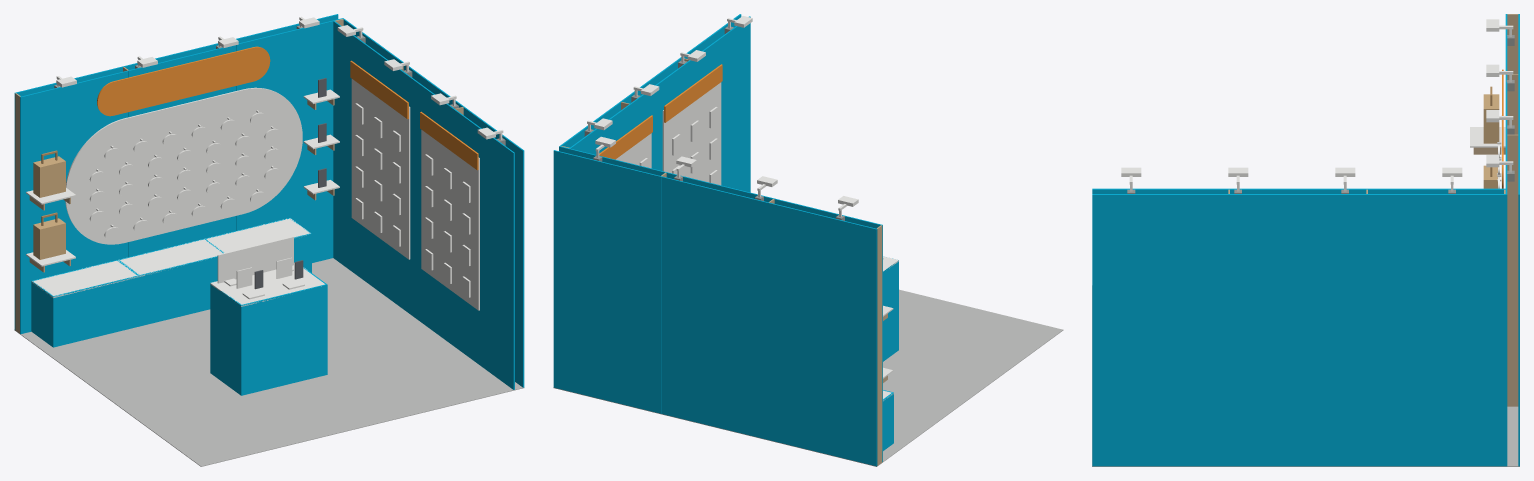
The model's file is booth-base.glb.
3 views of the same model, side by side, from view 1: azimuth 30°, elevation 25°; view 2: azimuth 150°, elevation 25°; view 3: azimuth 270°, elevation 25° (orthographic). The views are drawn at different scales.
Visible parts, largest first — view 1: booth (×6); view 2: booth (×5); view 3: booth (×6).
Boxes of the visible parts, x1=… form: booth (×6): x1=14, y1=14, x2=524, y2=466; booth (×5): x1=553, y1=14, x2=1063, y2=466; booth (×6): x1=1092, y1=14, x2=1519, y2=466.
Size of the model in its own units: 3 by 2.21 by 3.
